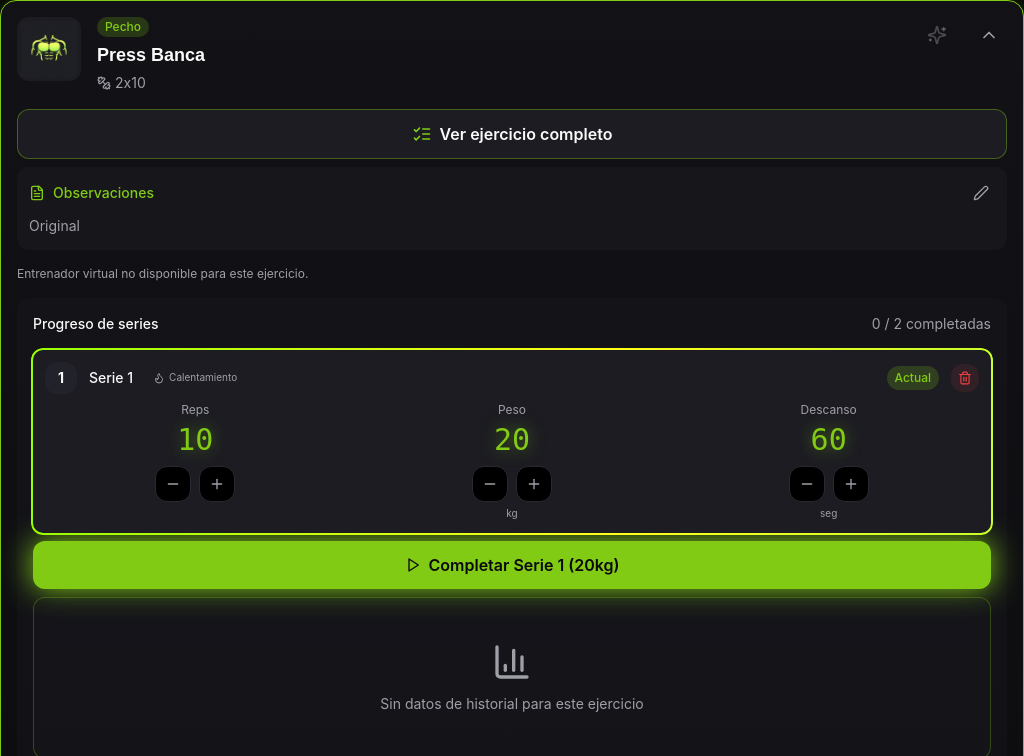
Test: Notas del ejercicio › borrar la nota muestra al instante "Añadir nota" sin rerender del padre
Click the button named "Editar nota" at (981, 193), box x1=967 y1=179 x2=995 y2=207
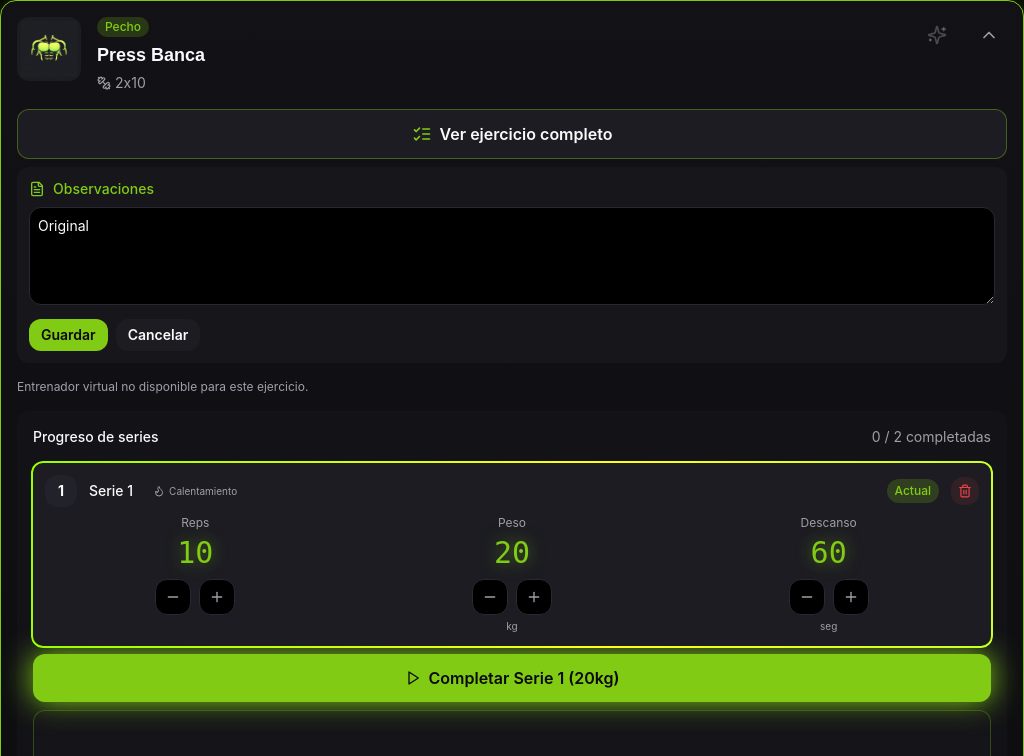
Clear the text box named "Nota del ejercicio" at (512, 256), box x1=29 y1=207 x2=995 y2=305
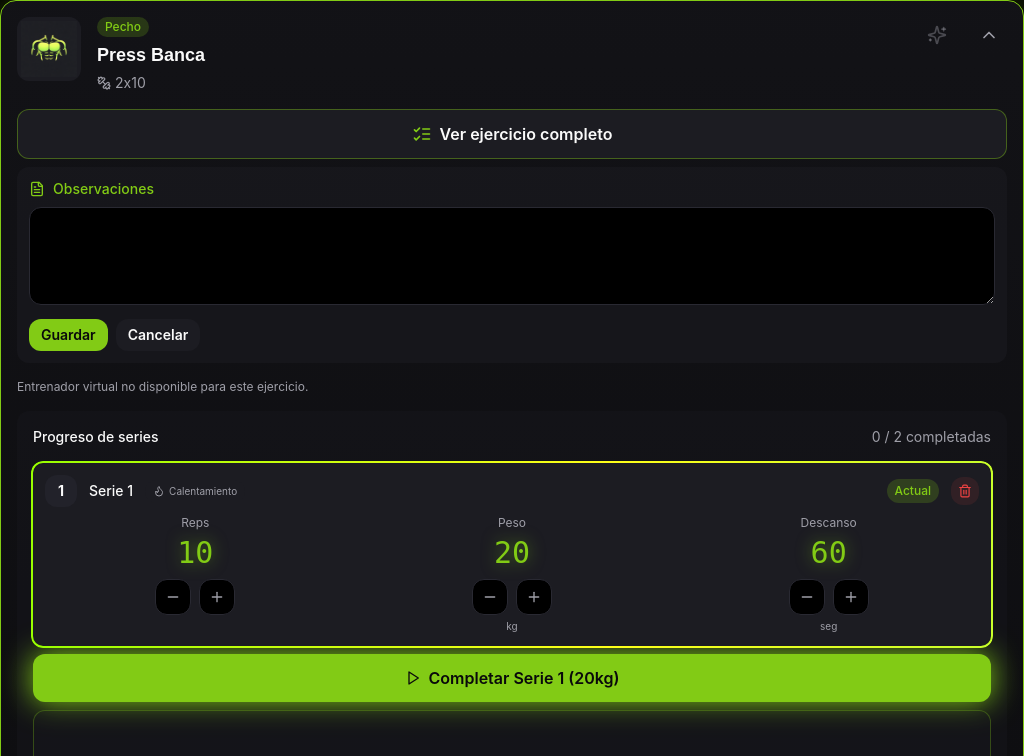
Click the button "Guardar" at (68, 335), box x1=29 y1=319 x2=108 y2=351
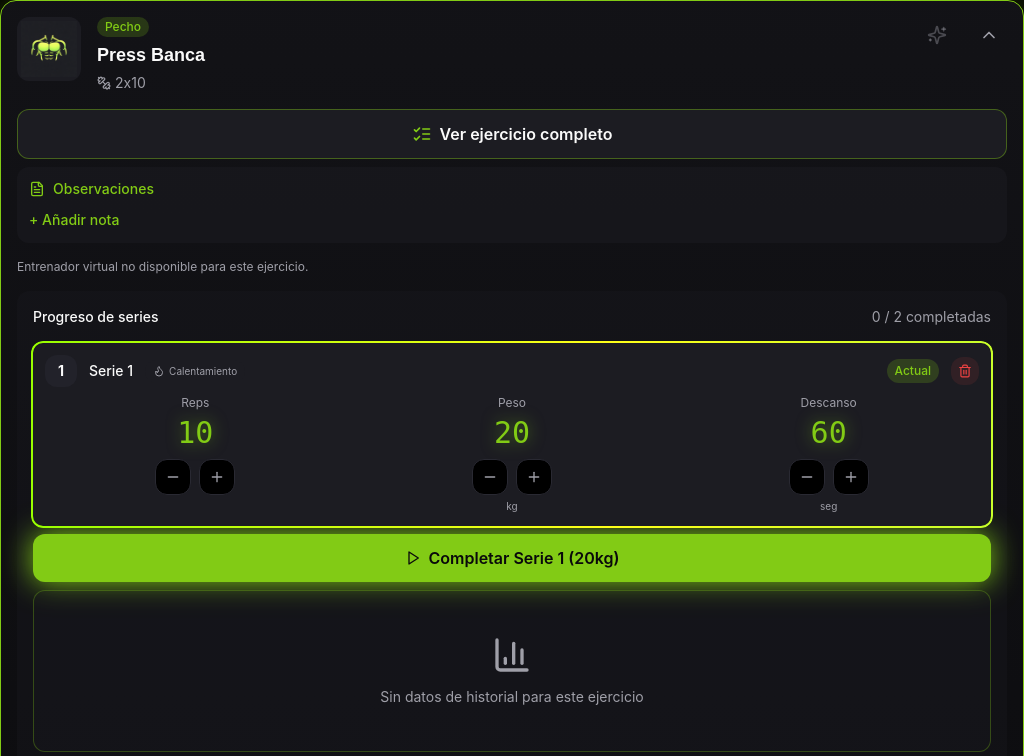
Expected: the button "+ Añadir nota" is shown, x1=29 y1=210 x2=119 y2=230
